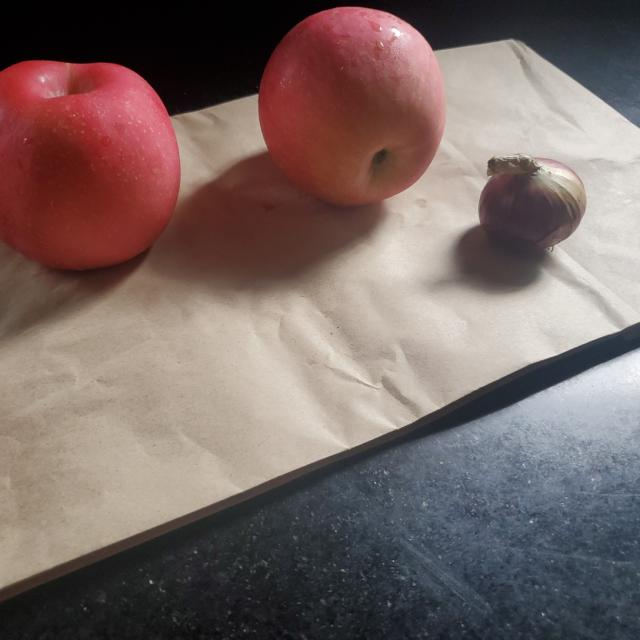apple: (3, 56, 182, 267), (259, 8, 448, 207)
onion: (480, 156, 588, 246)
